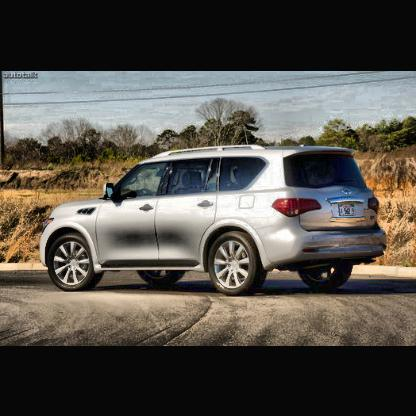Infiniti QX56 SUV 2011: (38, 143, 390, 297)
